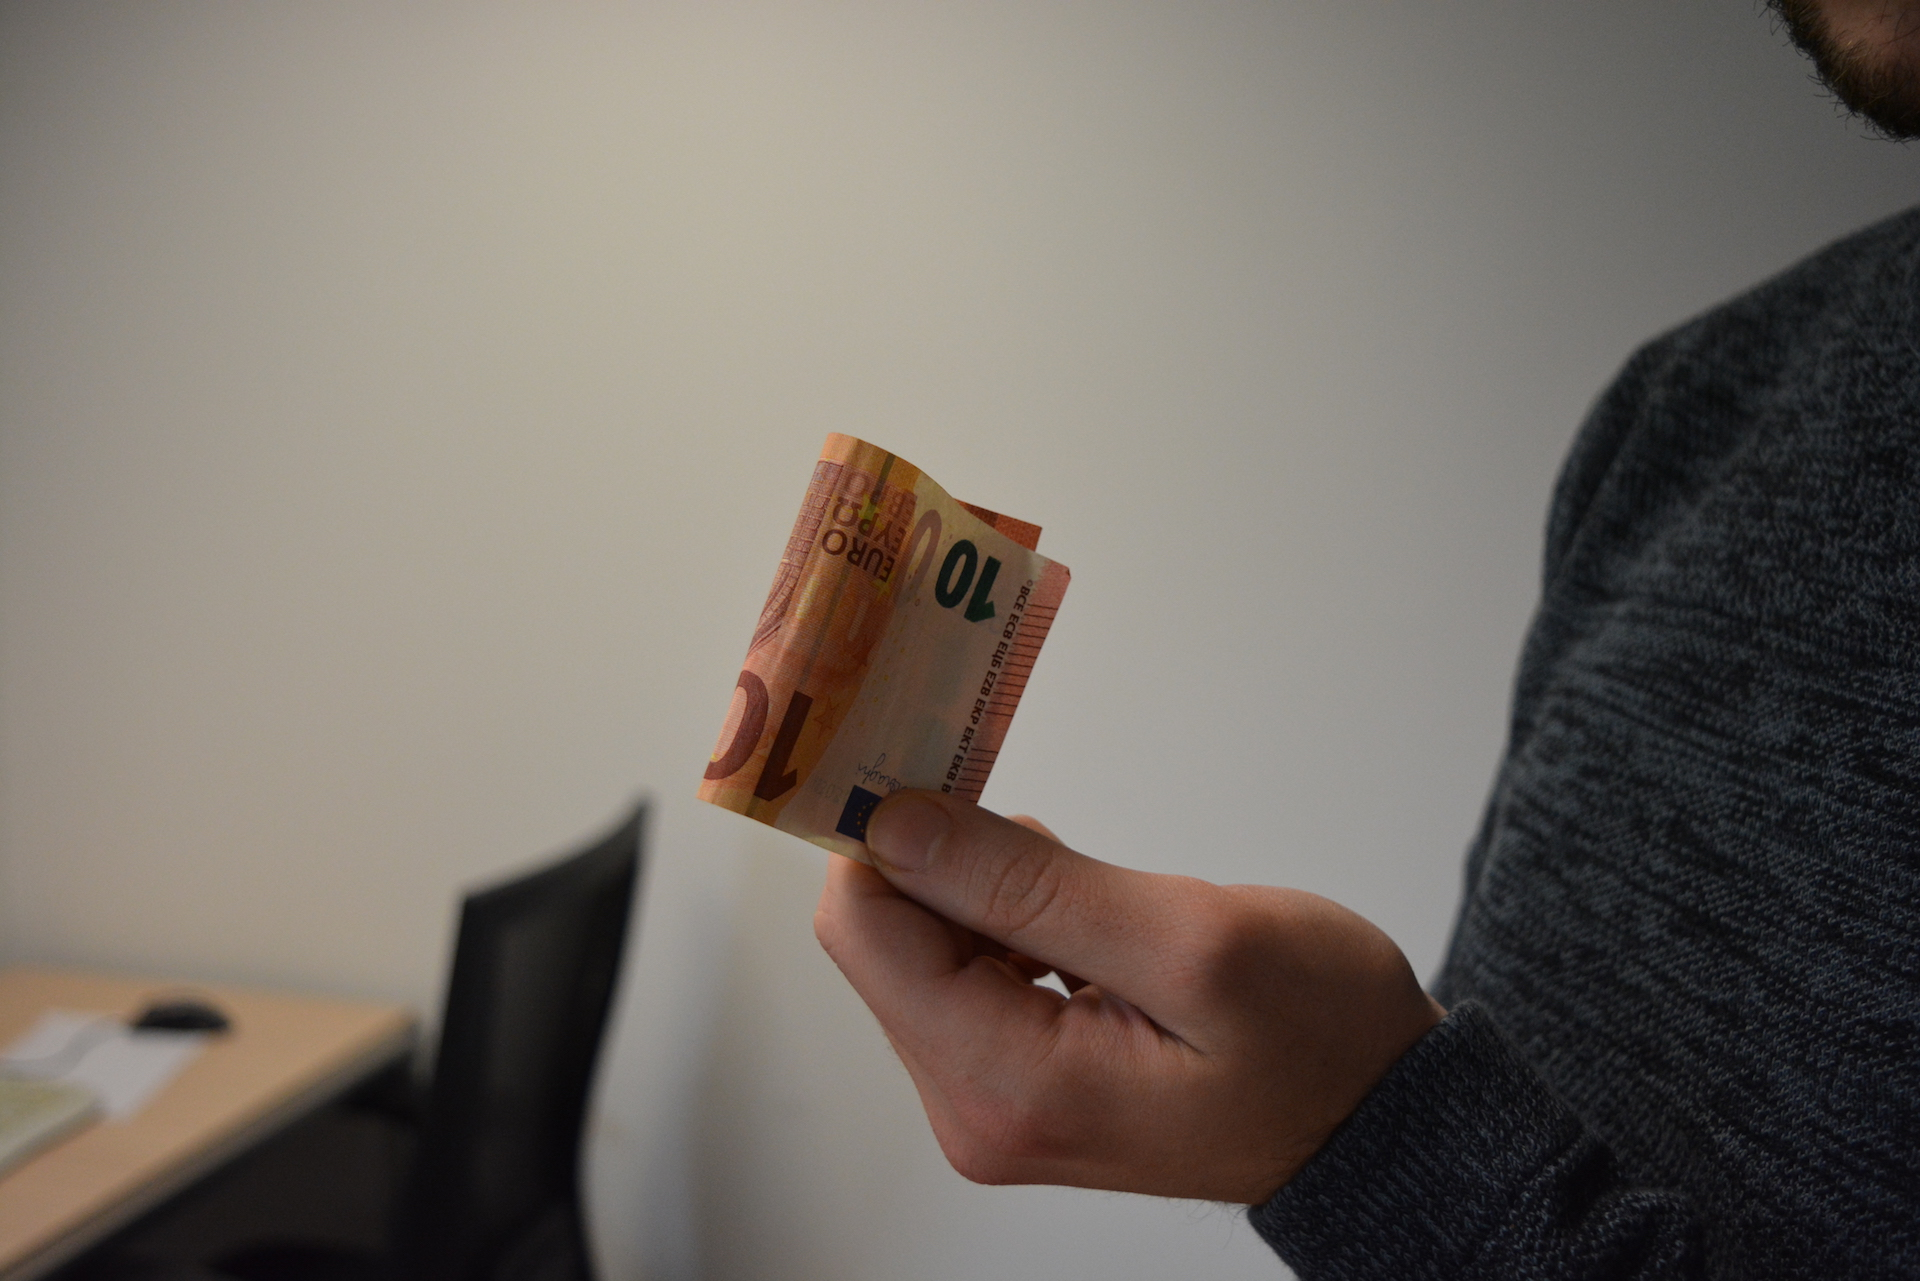billete: (693, 430, 1075, 872)
